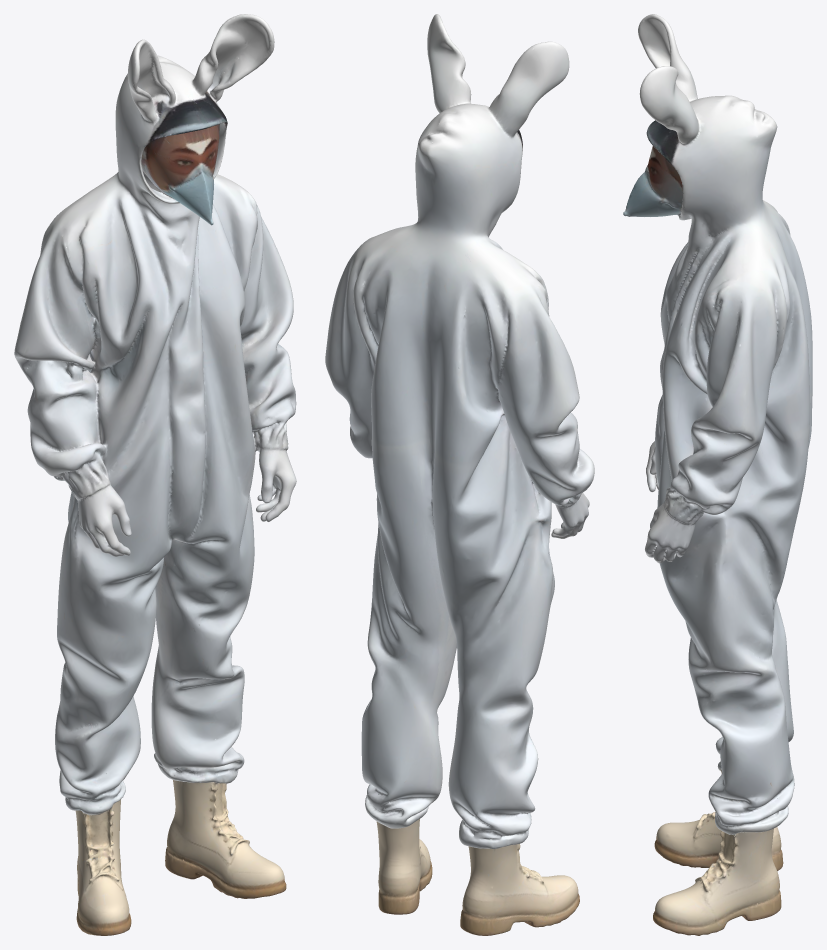
The model's file is suit.glb.
The picture shows the model from 3 angles, left to right: view 1: azimuth 30°, elevation 25°; view 2: azimuth 150°, elevation 25°; view 3: azimuth 270°, elevation 25°; orthographic projection. The views are drawn at different scales.
Size of the model in its own units: 0.5896 by 1.9 by 0.3833.
Materials: 1 (1 with a texture image).
